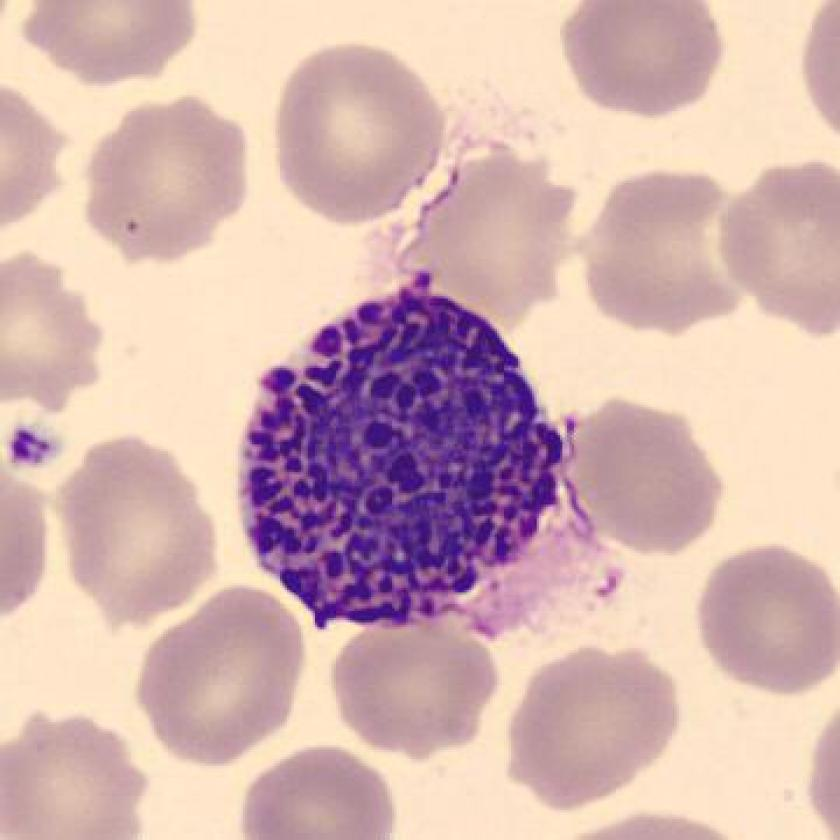basophil: (242, 279, 564, 637)
